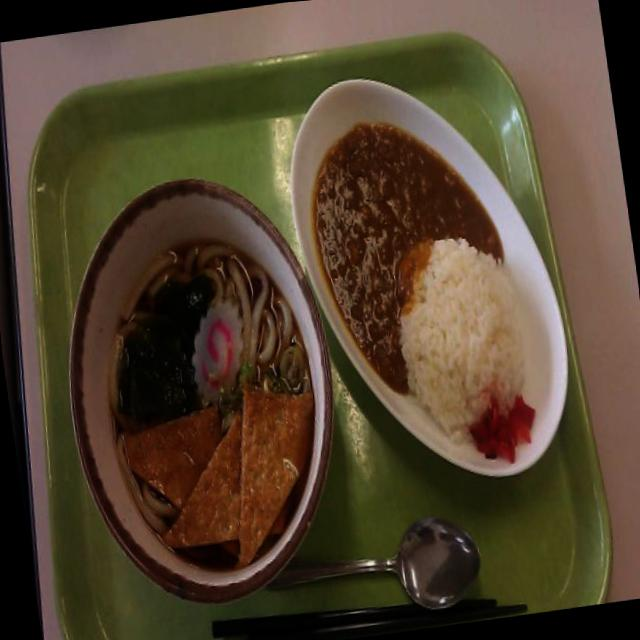Beef Curry: (302, 106, 476, 307)
Rice: (392, 228, 536, 422)
